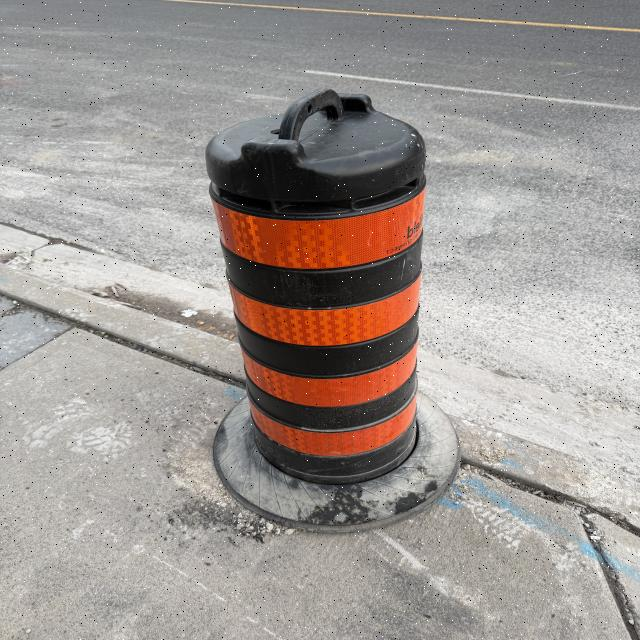Teraffic Barrel: (207, 90, 459, 530)
